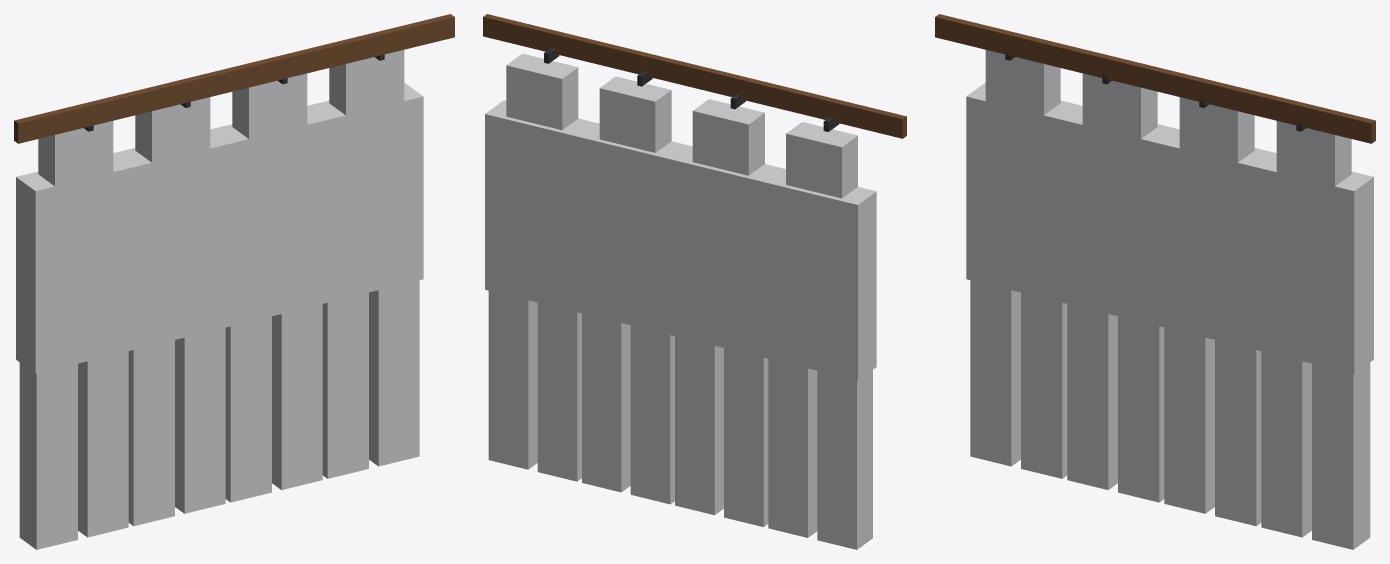
Rendered from prop_coat_rack_suits.glb.
The picture shows the model from 3 angles, left to right: view 1: azimuth 30°, elevation 25°; view 2: azimuth 150°, elevation 25°; view 3: azimuth 330°, elevation 25°; orthographic projection. The views are drawn at different scales.
Parts seen in each view (by area): view 1: prop_coat_rack_suits; view 2: prop_coat_rack_suits; view 3: prop_coat_rack_suits.
Boxes of the visible parts, x1=… form: prop_coat_rack_suits: x1=14, y1=14, x2=454, y2=549; prop_coat_rack_suits: x1=483, y1=14, x2=906, y2=549; prop_coat_rack_suits: x1=935, y1=14, x2=1375, y2=549.
Size of what is drawn, in the model's own units: 1.8 by 1.73 by 0.19.
